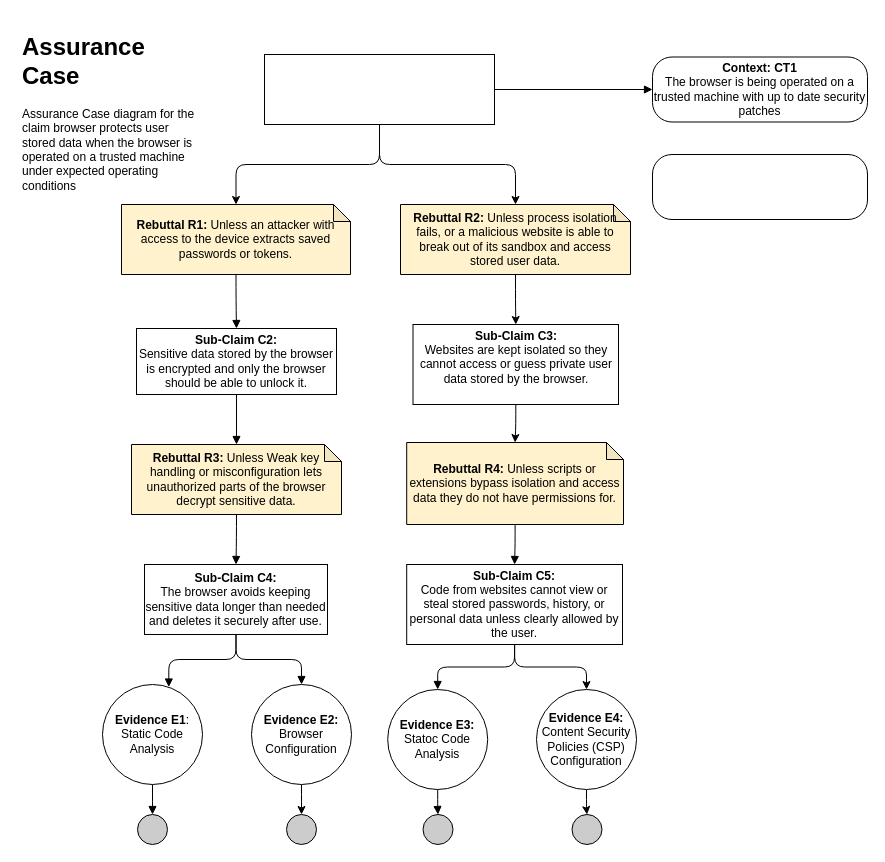
Image size: 885x862. Some labels were removed from this diagram. The box of each missing label's shape, as (x1, y1, x2, y2) in pixels:
Context: CT2 The browser is running under expected operating conditions: (652, 154, 868, 220)
Top-Claim C1: Browser protects user stored data.: (264, 54, 494, 124)
